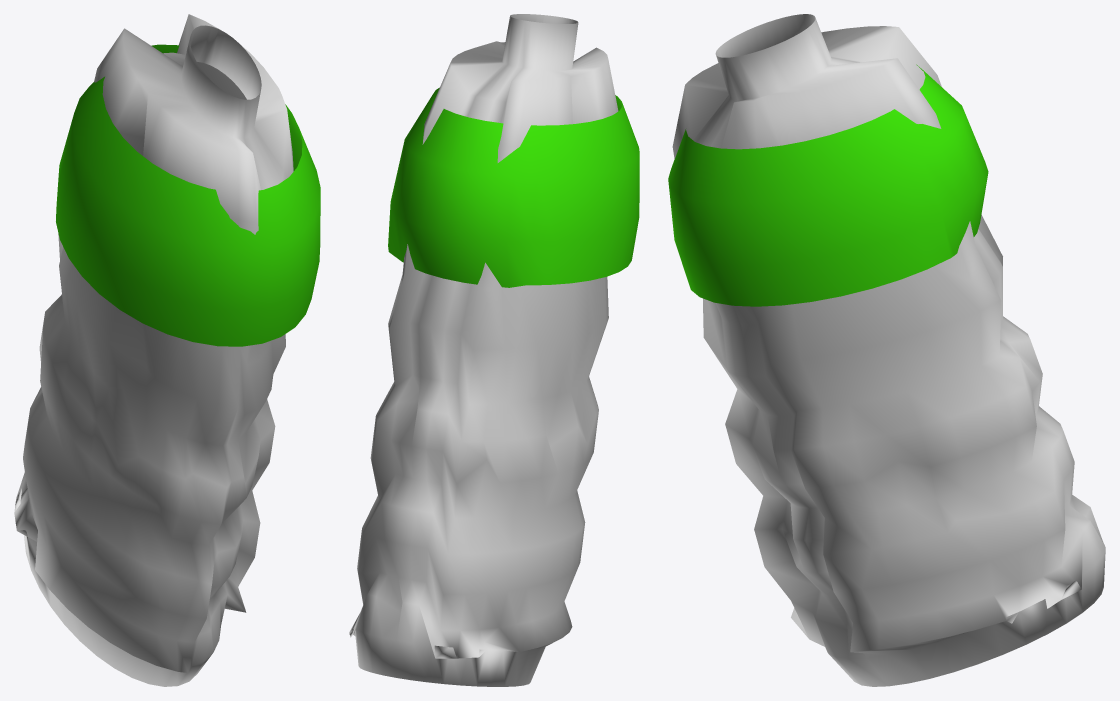
Rendered from bottle5.fbx.
3 views of the same model, side by side, from view 1: azimuth 30°, elevation 25°; view 2: azimuth 150°, elevation 25°; view 3: azimuth 270°, elevation 25° (orthographic). The views are drawn at different scales.
Parts seen in each view (by area): view 1: Cylinder.007; view 2: Cylinder.007; view 3: Cylinder.007.
Part boxes in pixels (x1,y1,x2,y2): Cylinder.007: [14, 14, 320, 686]; Cylinder.007: [349, 14, 639, 686]; Cylinder.007: [668, 14, 1105, 686].
Size of the model in its own units: 31.71 by 98.12 by 58.95.
